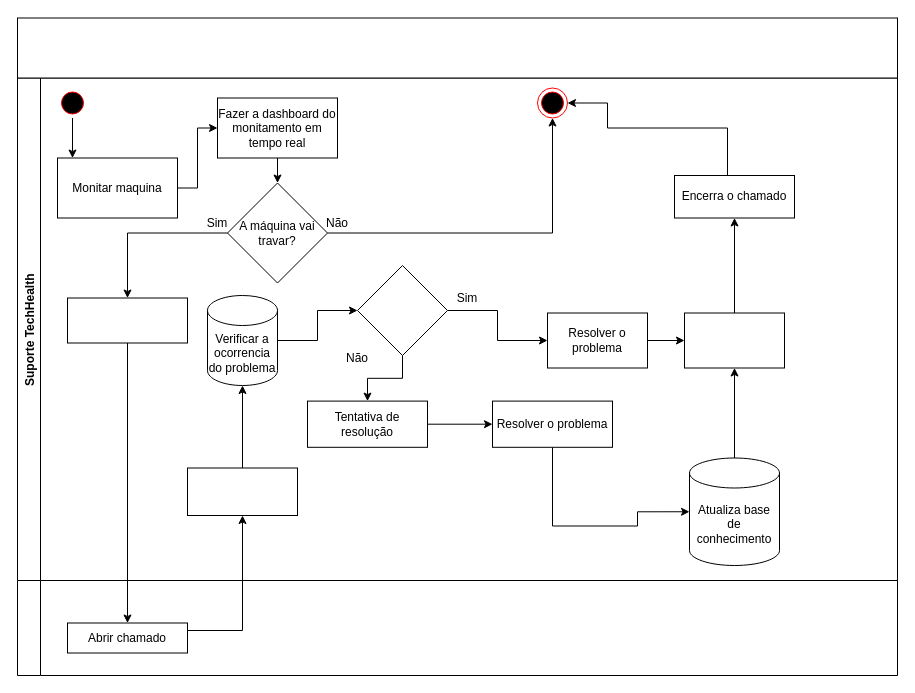
This 915x693 diagram has some shape labels left out. Here are the shapes that lost their labels. From the top down, the box of each, then its label:
(16, 17, 898, 78): MONITORAÇÃO DE MÁQUINAS DE RECEPÇÃO E TRIAGEM DE HOSPITAIS
(66, 297, 188, 343): Alertar o cliente
(356, 264, 448, 356): Tem ocorrencia?
(684, 312, 784, 368): Atualiza o log de erros
(186, 467, 298, 516): Analisar o Problema
(16, 580, 898, 676): Recepcionista
